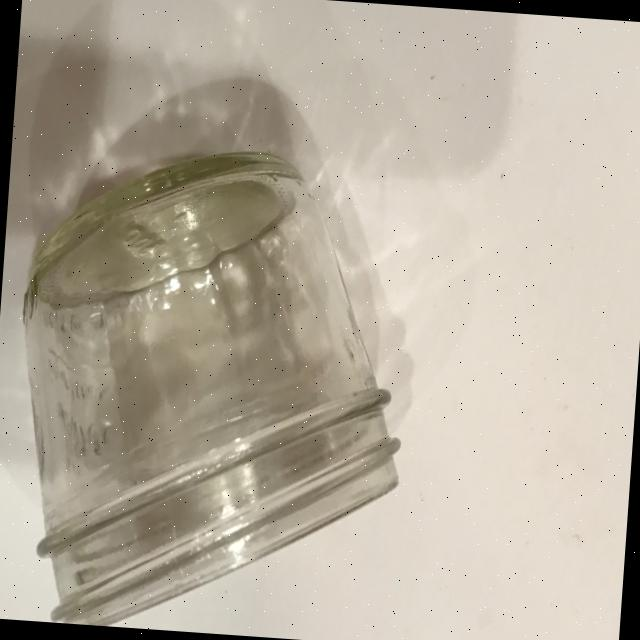glass: (0, 118, 436, 640)
